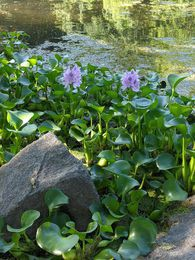water_hyacinth: (1, 28, 194, 259)
